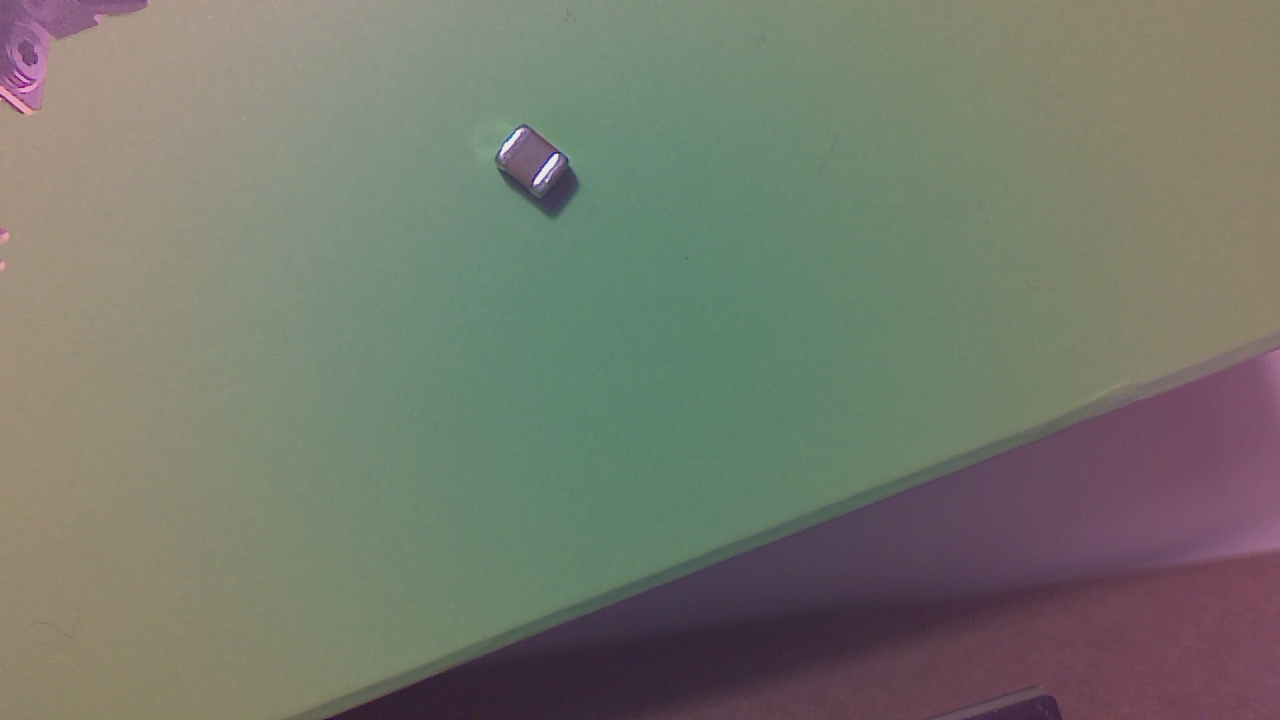Condensator: (500, 126, 578, 209)
